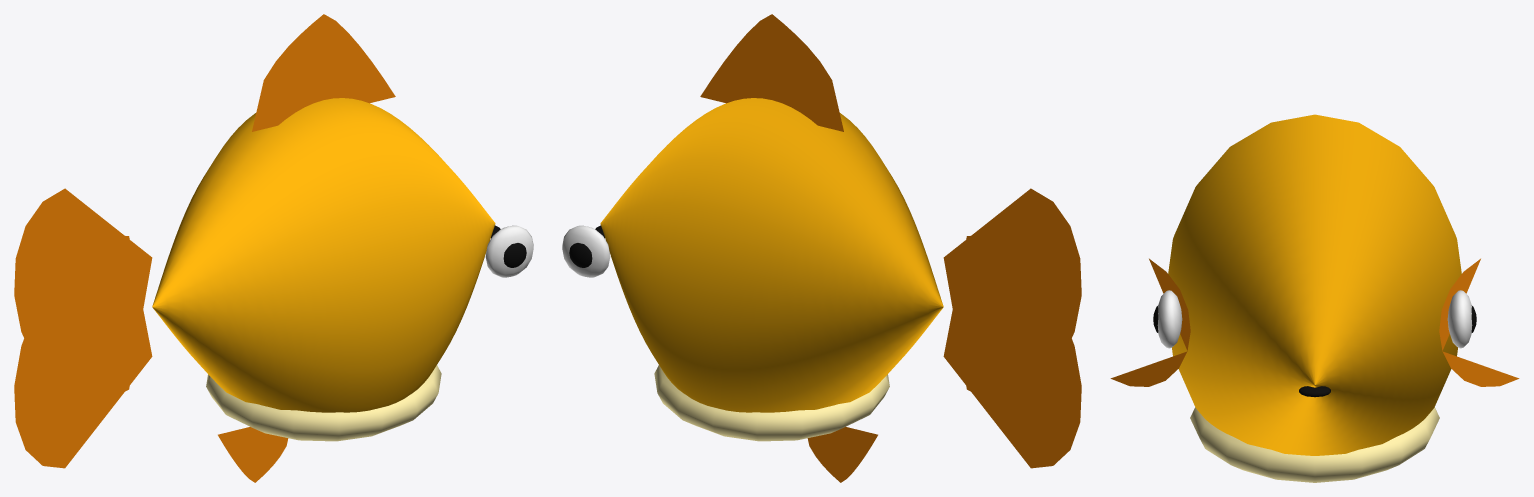
Rendered from goldfish.glb.
3 renders of one model, left to right at view 1: azimuth 30°, elevation 25°; view 2: azimuth 150°, elevation 25°; view 3: azimuth 270°, elevation 25°, orthographic. The views are drawn at different scales.
Visible parts, largest first — view 1: goldfish; view 2: goldfish; view 3: goldfish.
Part boxes in pixels (box(x1,y1,x2,y2)): goldfish: box(14, 14, 533, 482); goldfish: box(562, 14, 1081, 482); goldfish: box(1110, 114, 1519, 482).
Size of the model in its own units: 1.42 by 1.26 by 0.9832.
